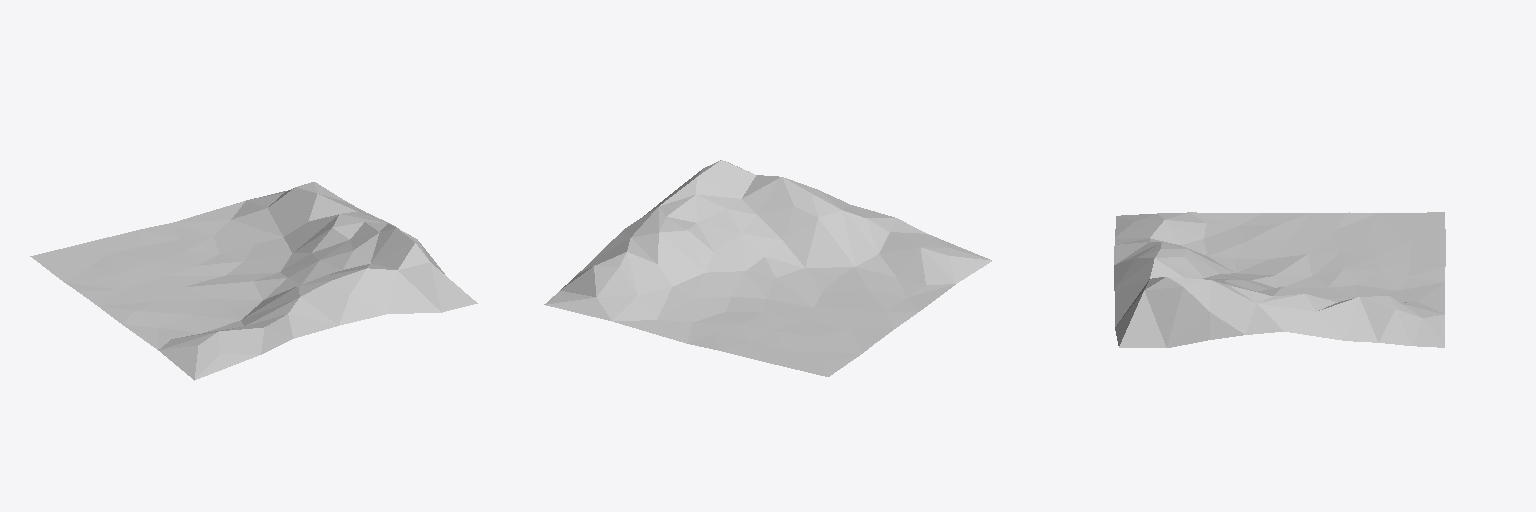
The model's file is ground.obj.
3 views of the same model, side by side, from view 1: azimuth 30°, elevation 25°; view 2: azimuth 150°, elevation 25°; view 3: azimuth 270°, elevation 25° (orthographic).
Parts seen in each view (by area): view 1: Terrain.001; view 2: Terrain.001; view 3: Terrain.001.
Part boxes in pixels (x1,y1,x2,y2): Terrain.001: (30,182,477,380); Terrain.001: (544,160,991,376); Terrain.001: (1114,212,1445,347).
Bounding box in the file's own units: 50.14 × 9.93 × 50.16.